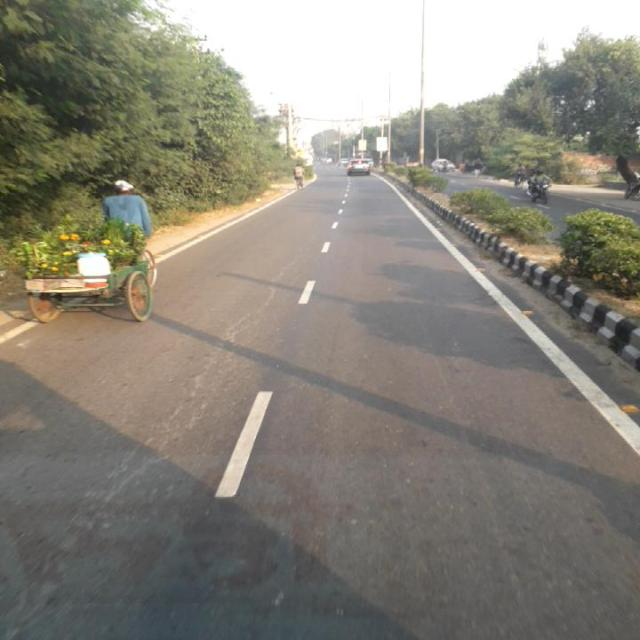D00: (69, 239, 313, 559)
